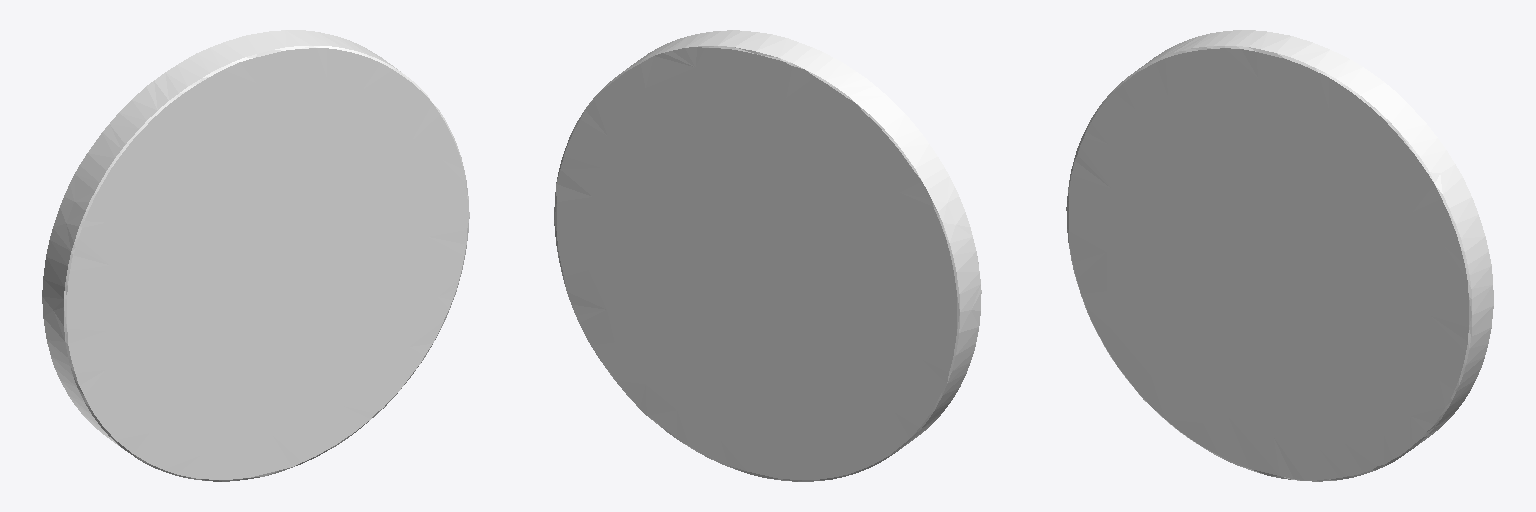
File: wood_circle.obj
3 views of the same model, side by side, from view 1: azimuth 30°, elevation 25°; view 2: azimuth 150°, elevation 25°; view 3: azimuth 330°, elevation 25° (orthographic).
Visible parts, largest first — view 1: default; view 2: default; view 3: default.
Part boxes in pixels (x1,y1,x2,y2): default: (42,30,469,481); default: (554,30,981,481); default: (1066,30,1493,481).
Bounding box in the file's own units: 40.11 × 40.11 × 3.85.